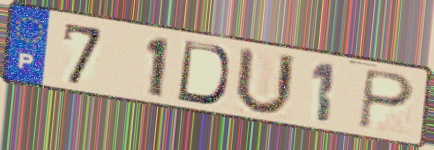1: (143, 35, 173, 100), (310, 62, 337, 126)
7: (60, 20, 105, 86)
D: (173, 38, 231, 107)
P: (357, 66, 417, 132)
U: (232, 44, 299, 119)
